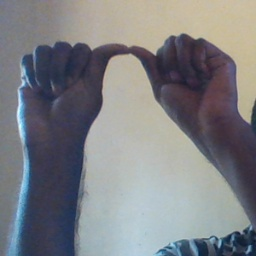A: (15, 33, 239, 145)
